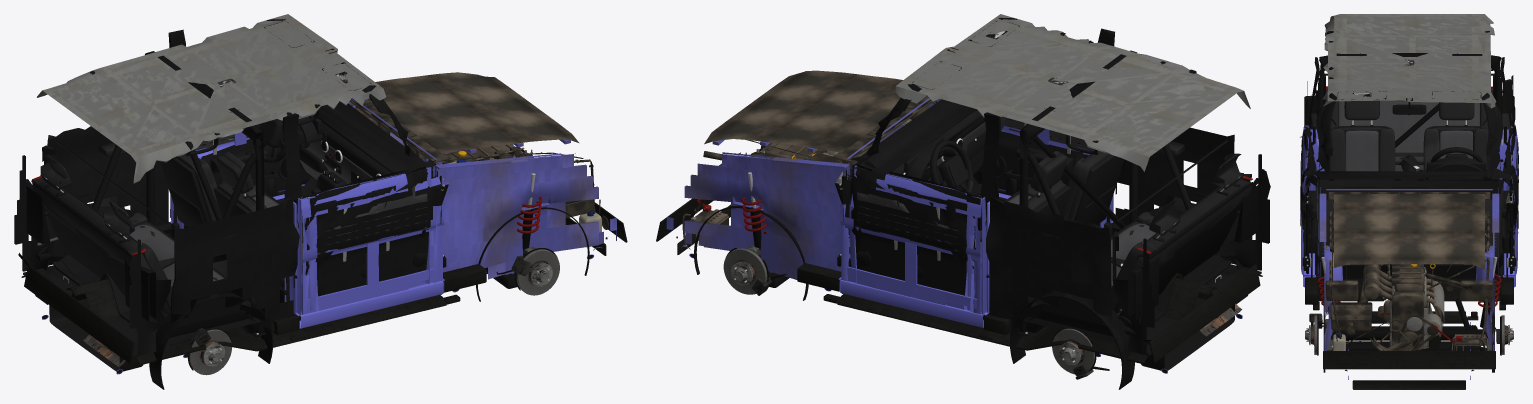
File: jipe-capota_completo.glb
3 views of the same model, side by side, from view 1: azimuth 30°, elevation 25°; view 2: azimuth 150°, elevation 25°; view 3: azimuth 270°, elevation 25° (orthographic). The views are drawn at different scales.
Visible parts, largest first — view 1: interior_forro_teto, engine_paralama_interno_dir, interior_lateral_traseira_dir, door_card_fr, hood_manta, interior_banco_traseiro, door_card_fr_chapa, interior_painel, interior_lateral_traseira_esq, interior_portamalas_carpete, under_assoalho, under_saias (+19 smaller); view 2: interior_forro_teto, engine_paralama_interno_esq, interior_lateral_traseira_esq, door_card_fl, hood_manta, interior_banco_traseiro, door_card_fl_chapa, interior_painel, interior_portamalas_carpete, interior_lateral_traseira_dir, under_assoalho, under_saias (+21 smaller); view 3: interior_forro_teto, hood_manta, engine_motor, interior_painel, under_saias, interior_banco_dianteiro_dir, interior_banco_traseiro, interior_acabamento_colunas, interior_banco_dianteiro_esq, under_chassi, interior_carpete, interior_santantonio (+32 smaller).
Part boxes in pixels (x1,y1,x2,y2): interior_forro_teto: (37, 14, 386, 183); engine_paralama_interno_dir: (435, 149, 616, 279); interior_lateral_traseira_dir: (170, 197, 299, 331); door_card_fr: (300, 160, 441, 296); hood_manta: (368, 72, 579, 153); interior_banco_traseiro: (31, 155, 226, 322); door_card_fr_chapa: (296, 167, 448, 315); interior_painel: (297, 99, 436, 183); interior_lateral_traseira_esq: (47, 126, 168, 273); interior_portamalas_carpete: (14, 145, 171, 356); under_assoalho: (21, 275, 460, 364); under_saias: (24, 147, 627, 363); interior_forro_teto: (895, 14, 1250, 171); engine_paralama_interno_esq: (666, 148, 848, 279); interior_lateral_traseira_esq: (986, 196, 1112, 330); door_card_fl: (843, 164, 983, 295); hood_manta: (704, 70, 910, 152); interior_banco_traseiro: (1111, 154, 1252, 321); door_card_fl_chapa: (835, 165, 986, 314); interior_painel: (847, 99, 1005, 180); interior_portamalas_carpete: (1102, 154, 1270, 355); interior_lateral_traseira_dir: (1115, 127, 1234, 273); under_assoalho: (823, 274, 1262, 364); under_saias: (656, 148, 1260, 362); interior_forro_teto: (1322, 14, 1496, 108); hood_manta: (1334, 194, 1484, 269); engine_motor: (1330, 264, 1444, 350); interior_painel: (1315, 156, 1503, 261); under_saias: (1305, 211, 1518, 369); interior_banco_dianteiro_dir: (1329, 100, 1395, 171); interior_banco_traseiro: (1314, 86, 1492, 171); interior_acabamento_colunas: (1306, 57, 1514, 179); interior_banco_dianteiro_esq: (1423, 102, 1488, 171); under_chassi: (1348, 311, 1478, 389); interior_carpete: (1316, 154, 1502, 279); interior_santantonio: (1316, 53, 1502, 147).
Size of what is drawn, in the model's own units: 3.55 by 1.63 by 1.63.
Materials: 55 (55 with a texture image).
